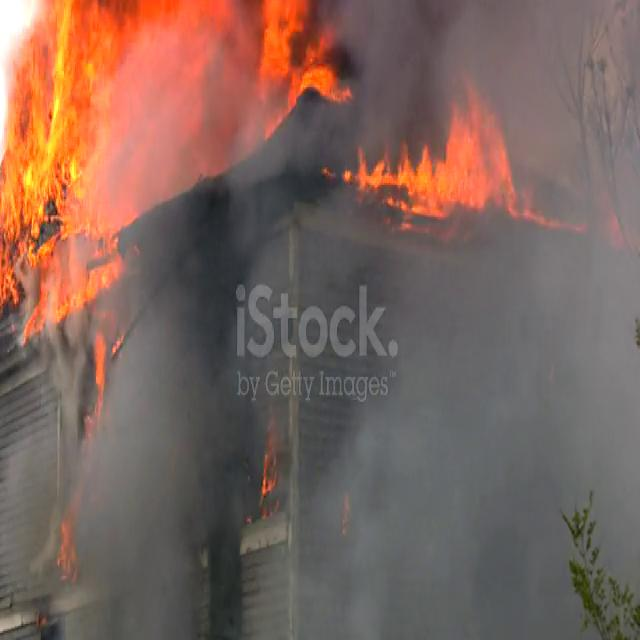fire: (8, 5, 122, 314), (355, 75, 549, 226), (254, 0, 343, 167)
smoke: (102, 322, 214, 614)
